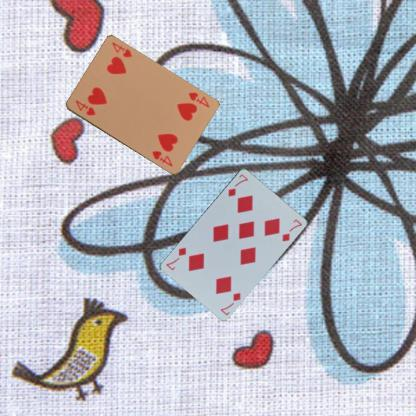4h: (72, 98, 97, 117), (186, 90, 210, 109)
7d: (225, 171, 249, 198), (218, 290, 242, 316)
